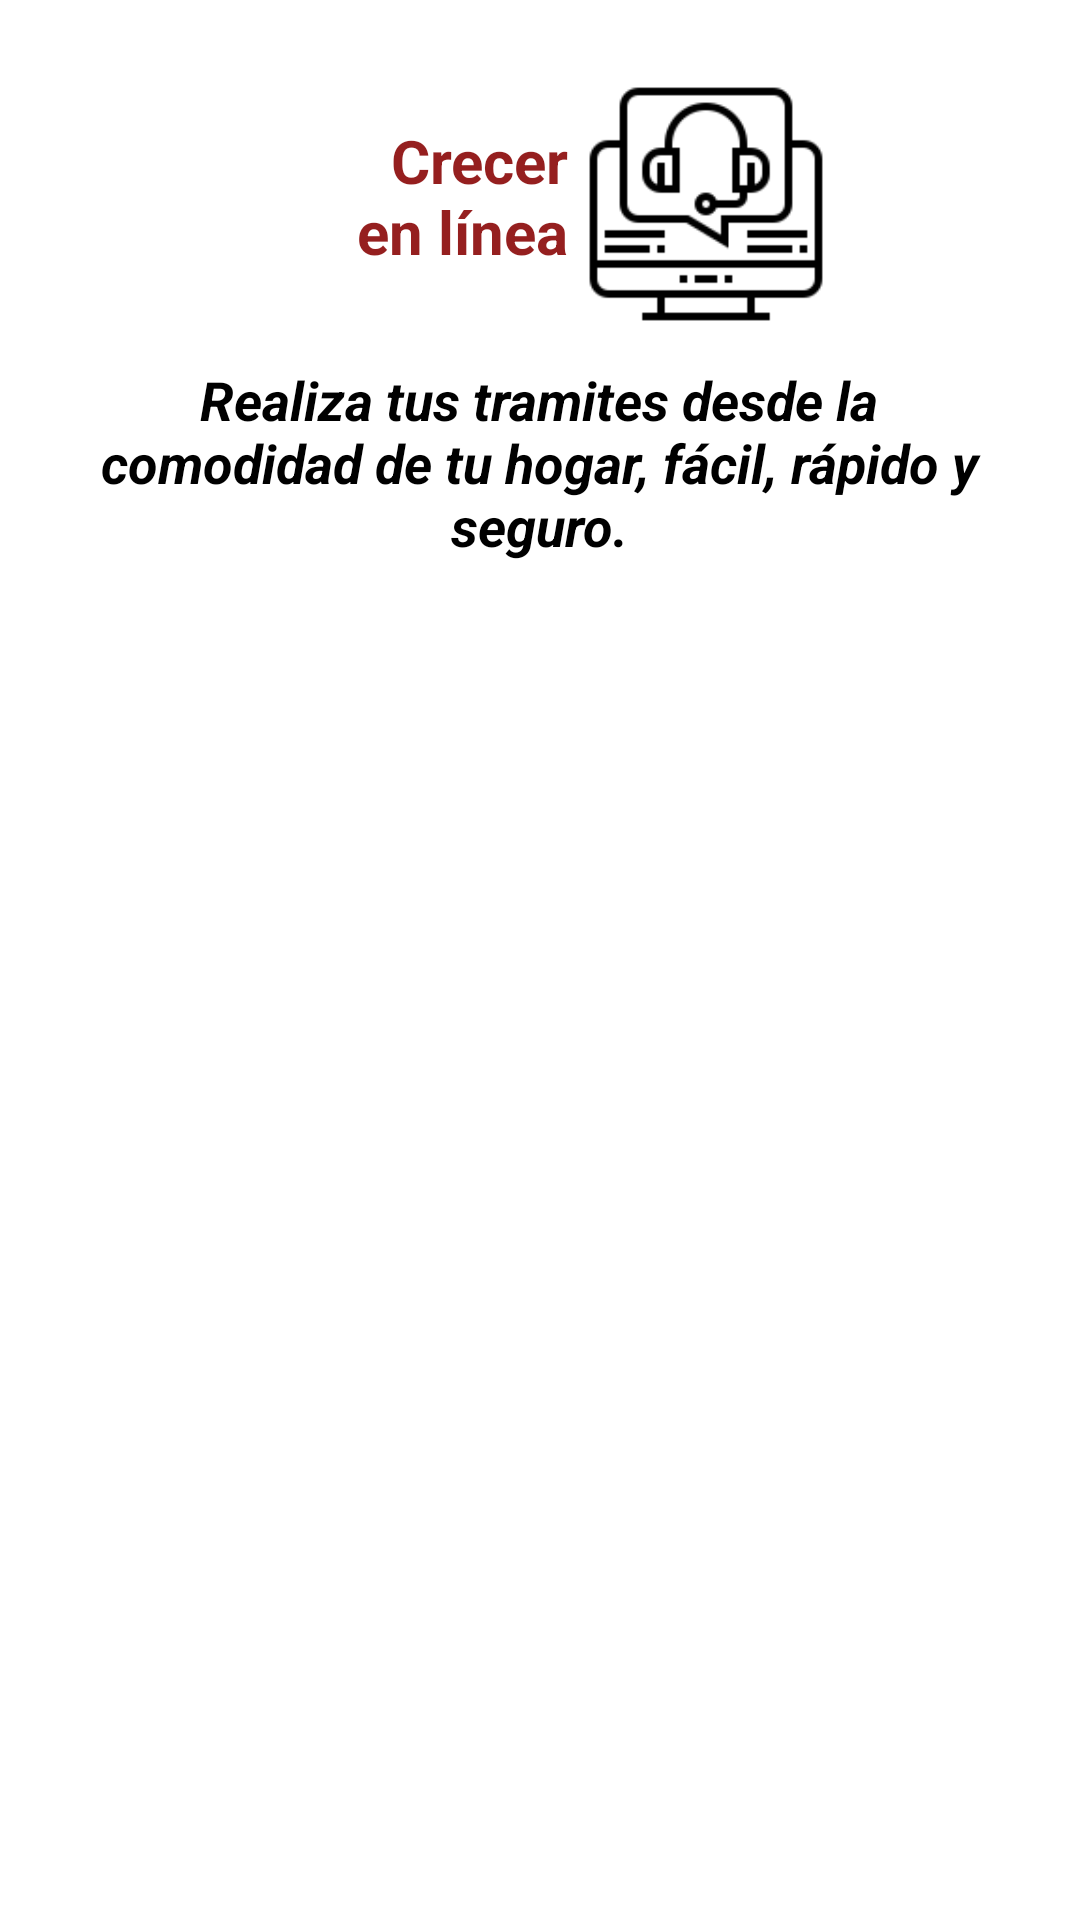

Screen size 1080px×1920px. Icon name, then its box in pixels as Rect(x1, y1, x2, y2):
servicio: Rect(589, 87, 823, 321)
